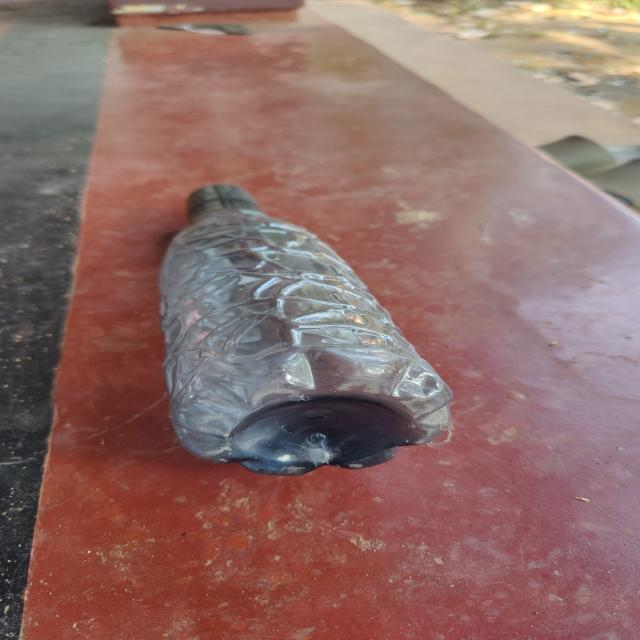plastic: (162, 184, 464, 480)
